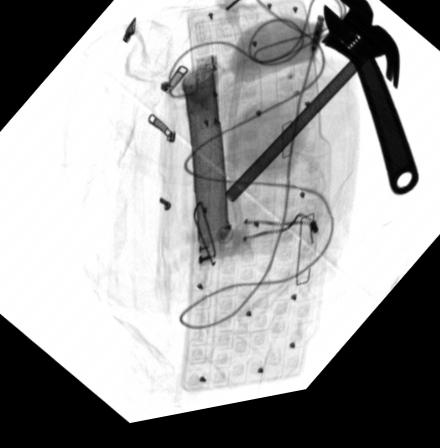Hammer: (222, 40, 398, 212)
Wrench: (321, 6, 419, 210)
